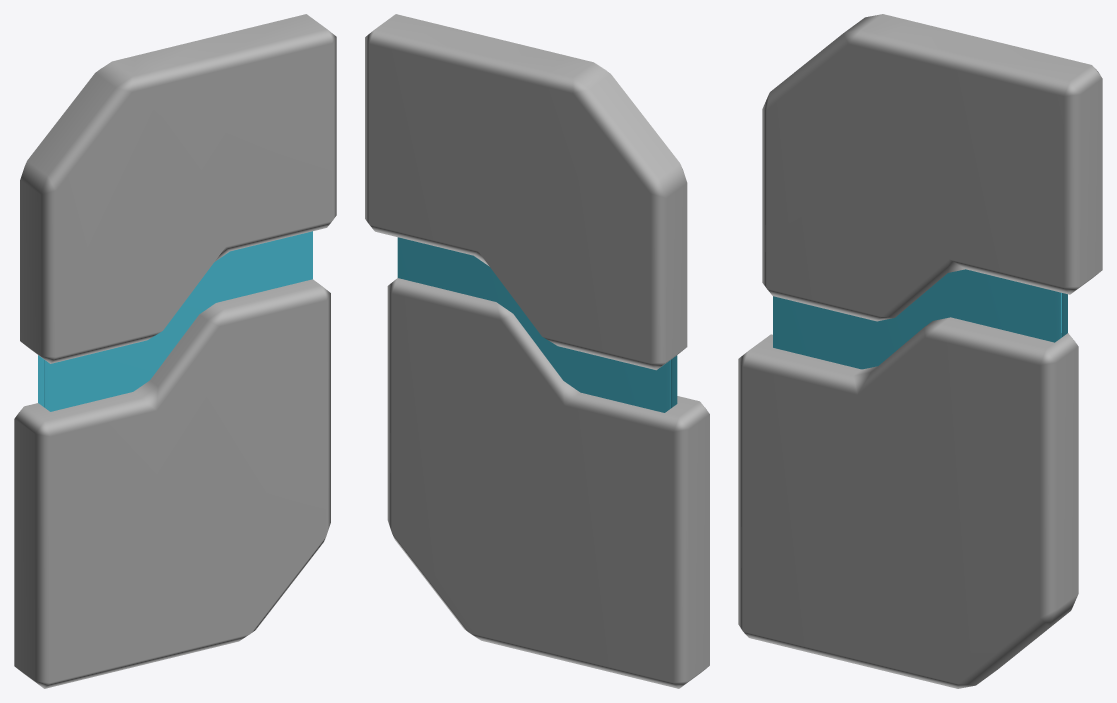
Rendered from panel_003.fbx.
The picture shows the model from 3 angles, left to right: view 1: azimuth 30°, elevation 25°; view 2: azimuth 150°, elevation 25°; view 3: azimuth 330°, elevation 25°; orthographic projection. The views are drawn at different scales.
Visible parts, largest first — view 1: panel_003; view 2: panel_003; view 3: panel_003.
Boxes of the visible parts, x1,y1,x2,y2 form: panel_003: (14,14,336,688); panel_003: (365,14,709,688); panel_003: (738,14,1102,688).
Bounding box in the file's own units: 502 × 112 × 902.
